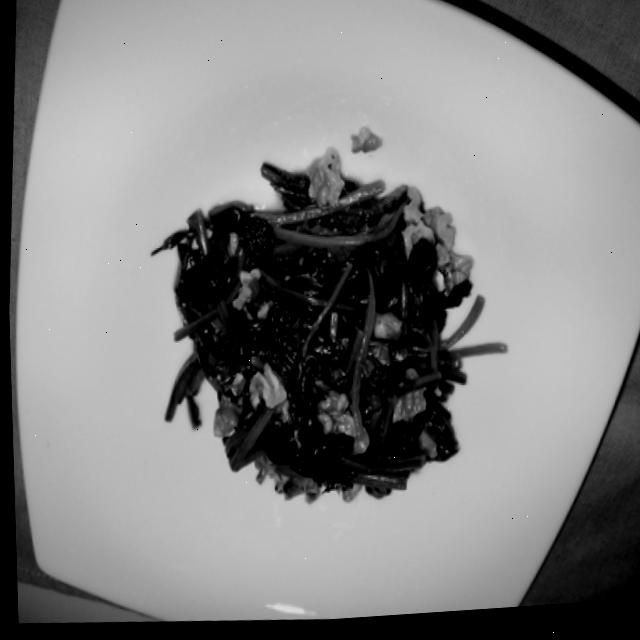蔬菜料理: (98, 81, 530, 563)
